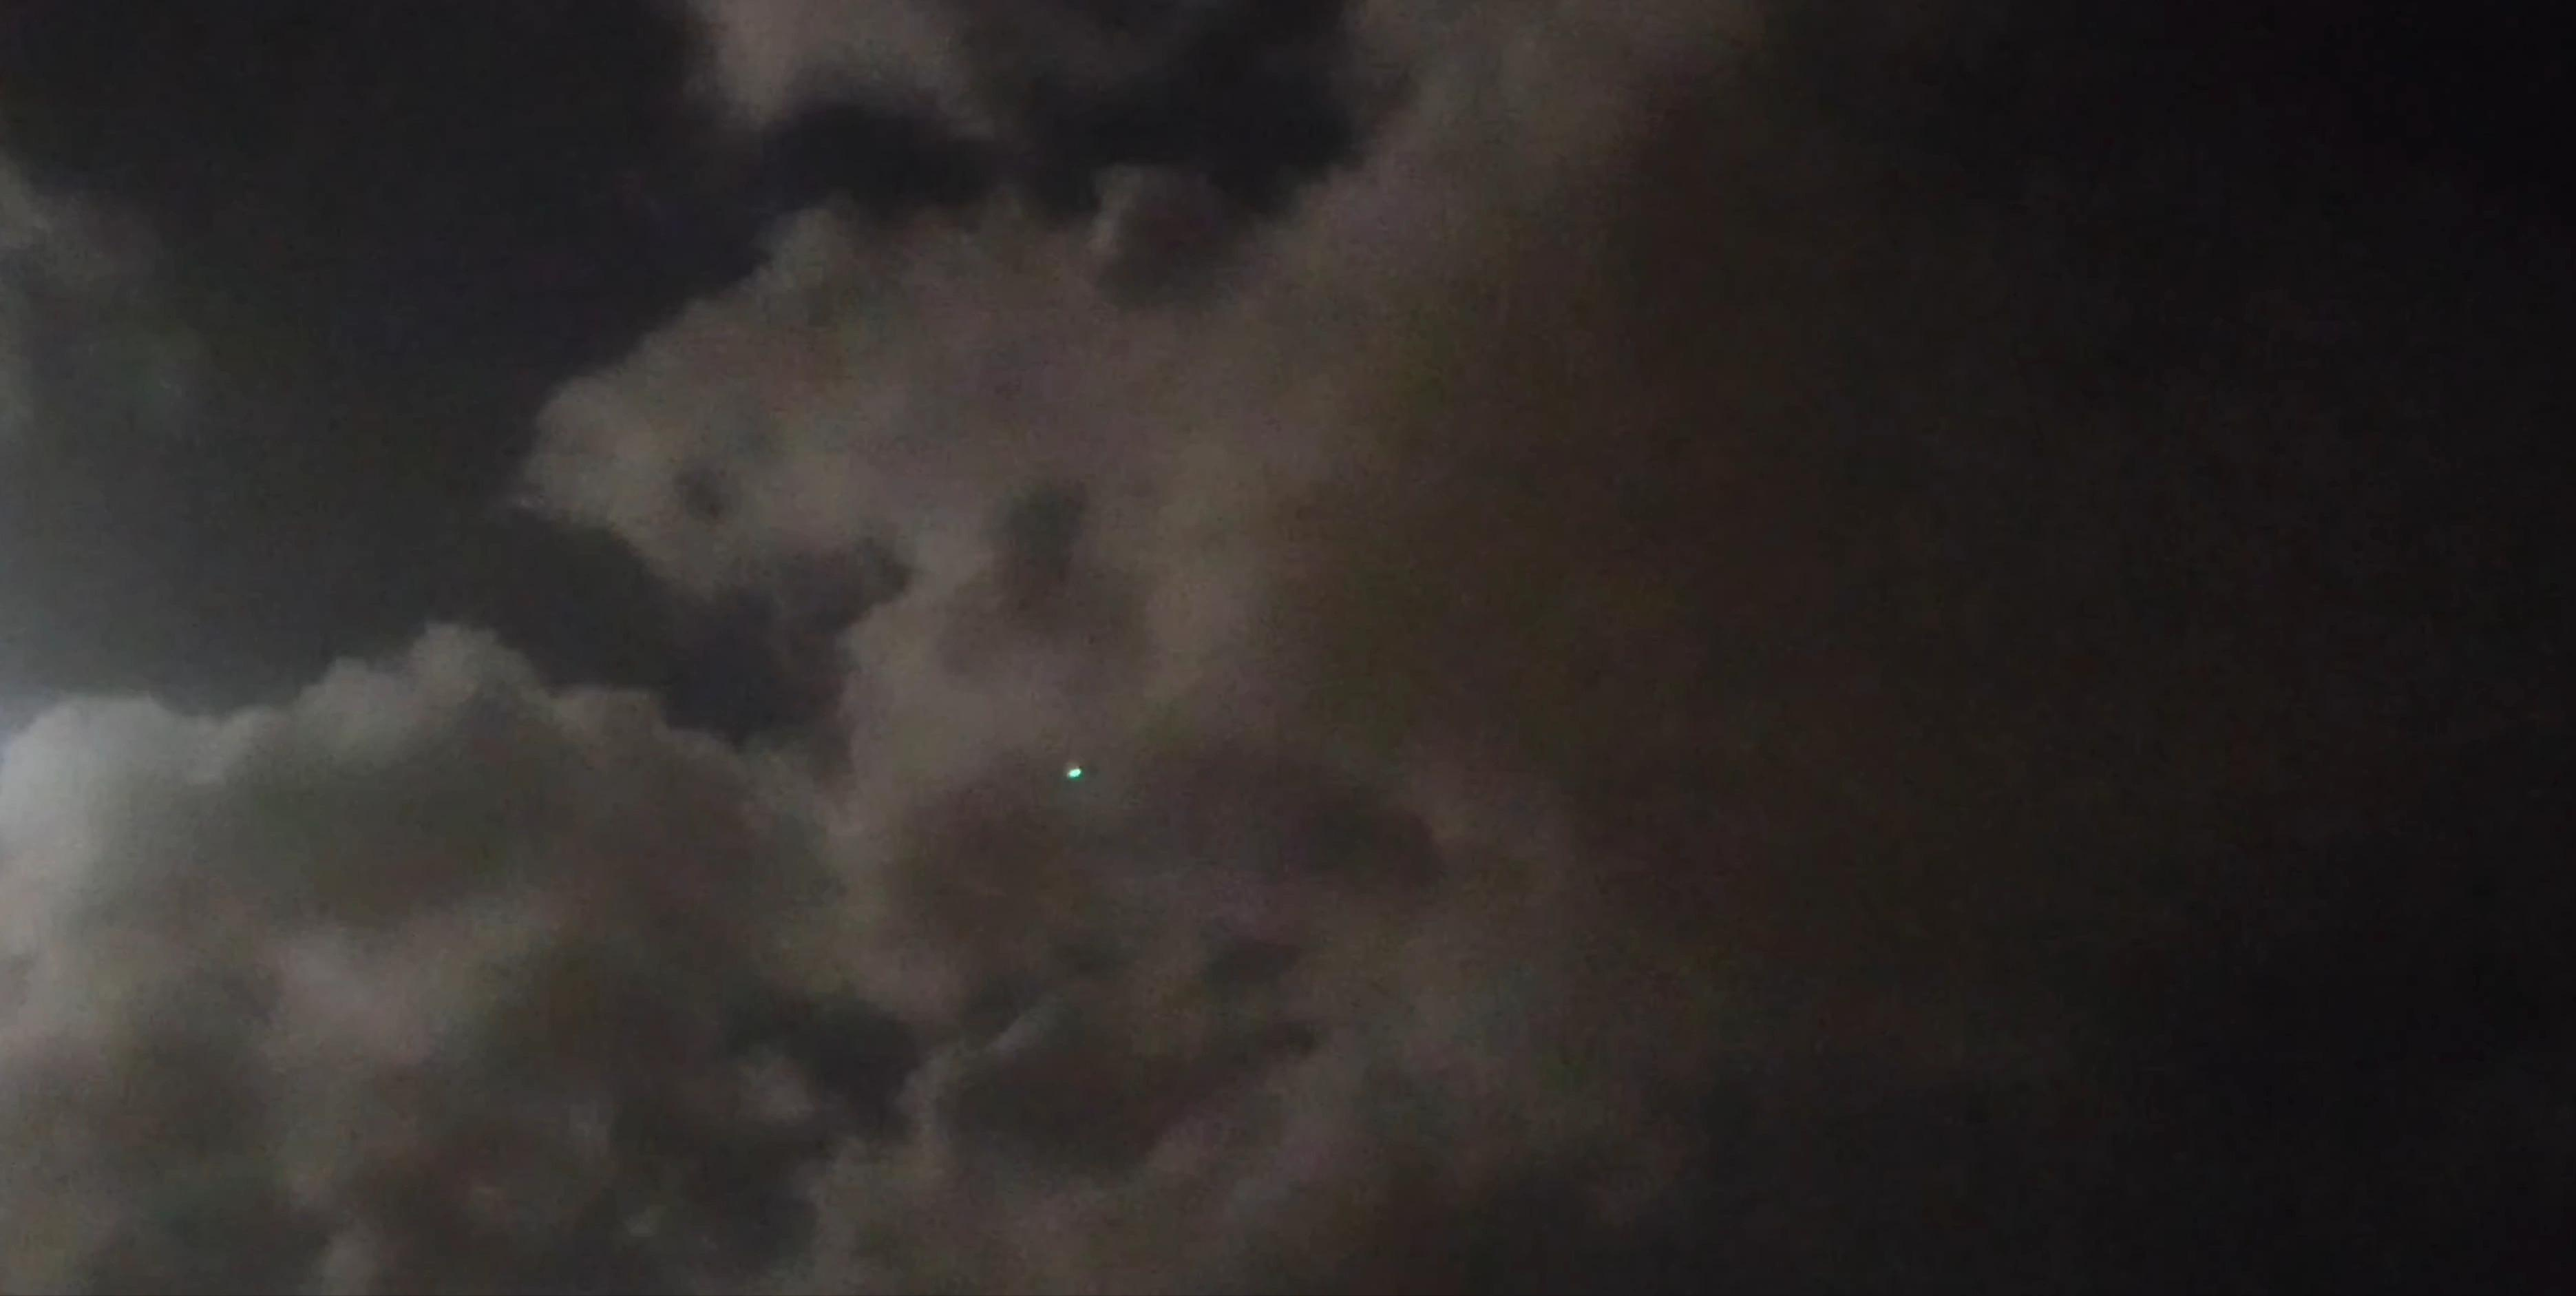Plane: (1029, 755, 1115, 780)
